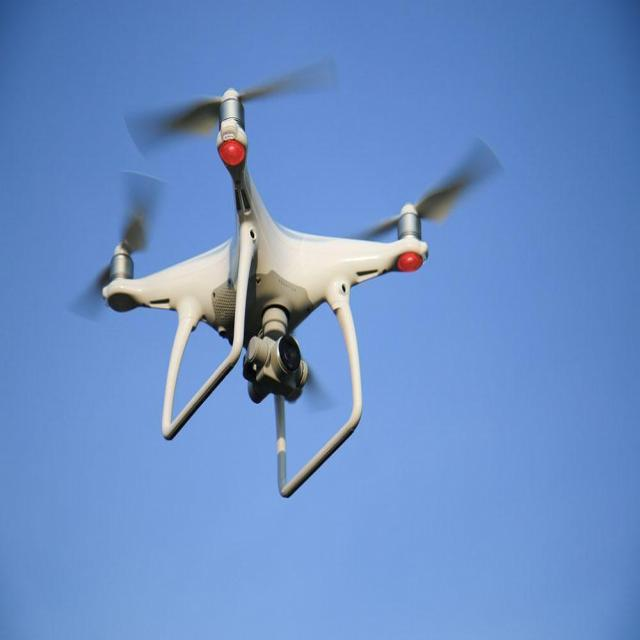UAV: (98, 80, 434, 504)
